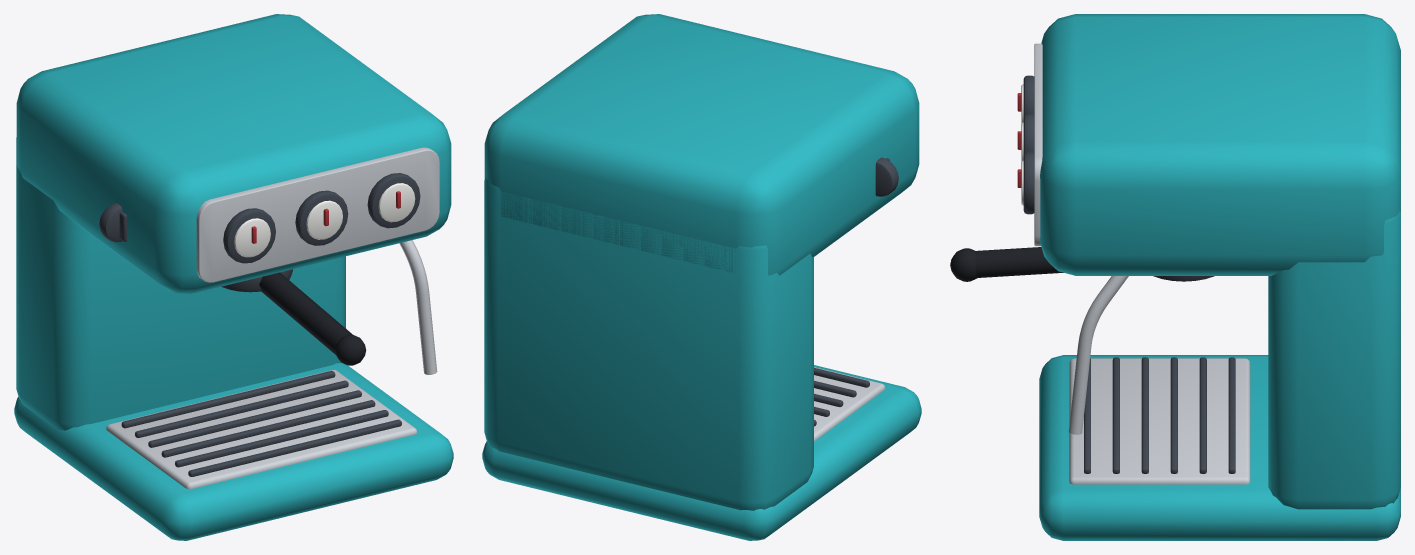
File: cafeteira_expresso_turquesa.glb
The picture shows the model from 3 angles, left to right: view 1: azimuth 30°, elevation 25°; view 2: azimuth 150°, elevation 25°; view 3: azimuth 270°, elevation 25°; orthographic projection. The views are drawn at different scales.
Visible parts, largest first — view 1: cafeteira_expresso_turquesa; view 2: cafeteira_expresso_turquesa; view 3: cafeteira_expresso_turquesa.
Part boxes in pixels (box(x1,y1,x2,y2)): cafeteira_expresso_turquesa: box(14, 14, 453, 540); cafeteira_expresso_turquesa: box(482, 14, 921, 540); cafeteira_expresso_turquesa: box(950, 14, 1400, 540).
Size of the model in its own units: 0.322 by 0.36 by 0.374.
1 material, 1 textured.
